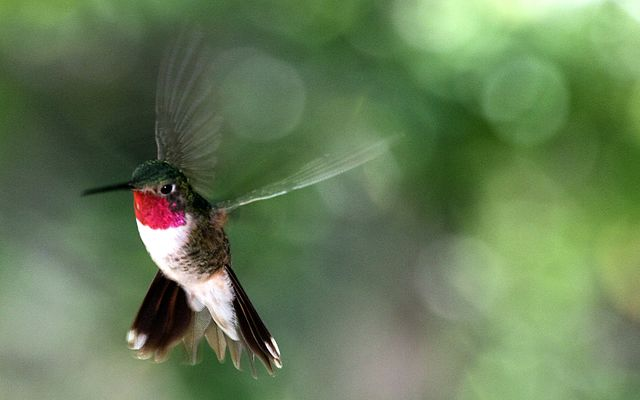selasphorus platycercus: (71, 156, 293, 377)
